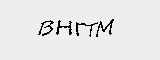В: (34, 18, 55, 37)
Г: (74, 20, 89, 39)
М: (94, 16, 114, 37)
Н: (56, 17, 73, 42)
Т: (83, 20, 98, 37)
